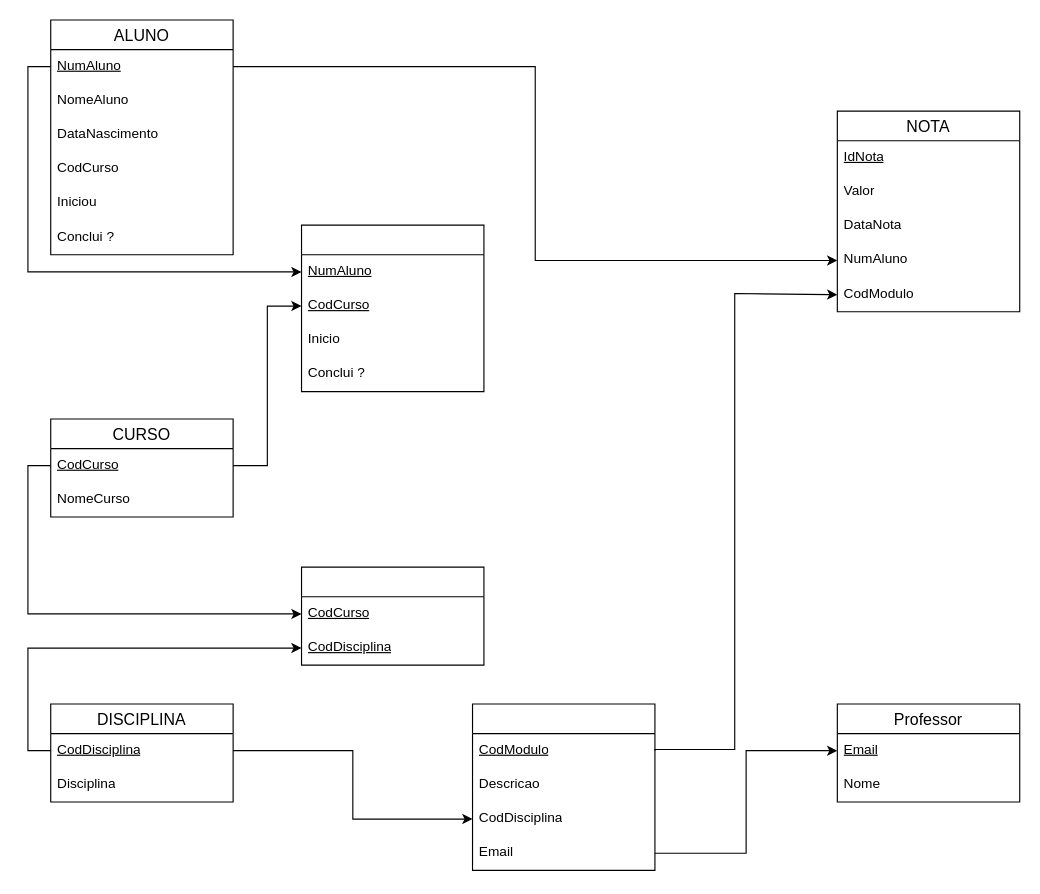
Some shapes in this 1040 by 894 pixel diagram are drawn without their labels. Each missing label, with the box of its shape:
Módulo: (471, 703, 655, 870)
R3: (300, 566, 484, 665)
R4: (300, 224, 484, 392)
